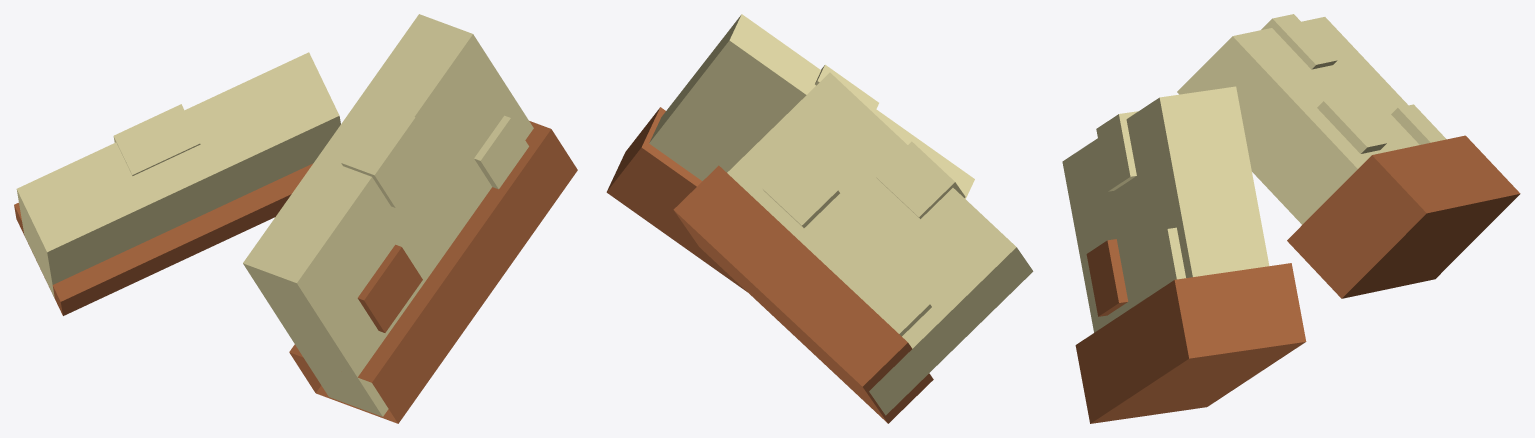
The model's file is wall_broken.fbx.
3 renders of one model, left to right at view 1: azimuth 30°, elevation 25°; view 2: azimuth 150°, elevation 25°; view 3: azimuth 270°, elevation 25°, orthographic. The views are drawn at different scales.
Parts seen in each view (by area): view 1: wall_broken; view 2: wall_broken; view 3: wall_broken.
Part boxes in pixels (bbox=[...]): wall_broken: bbox=[14, 14, 577, 423]; wall_broken: bbox=[606, 14, 1033, 423]; wall_broken: bbox=[1062, 14, 1520, 423].
Size of the model in its own units: 322 by 210 by 227.
